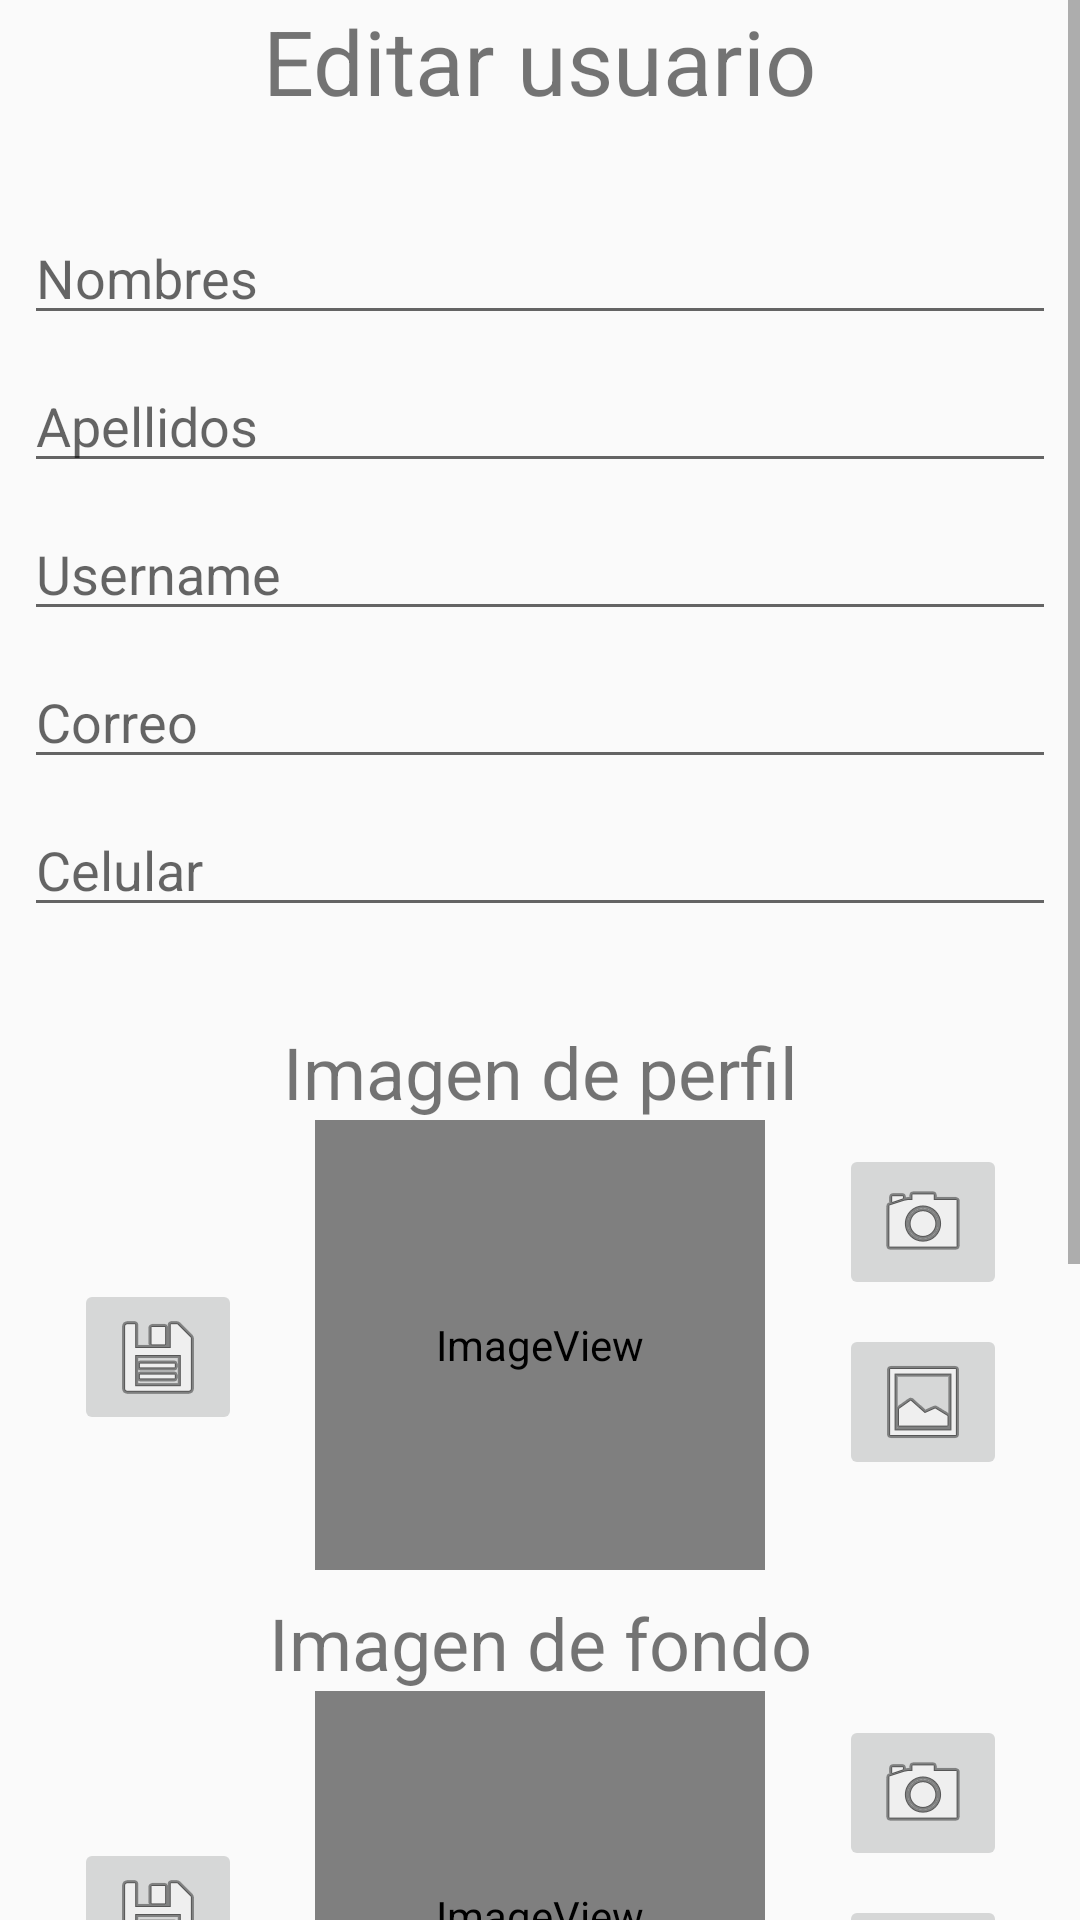

Screen size 1080w x 1920h. Icon name, then its box in pixels as (x1, y1, x2, y2):
camera: (851, 1162, 995, 1282), (851, 1733, 995, 1853)
